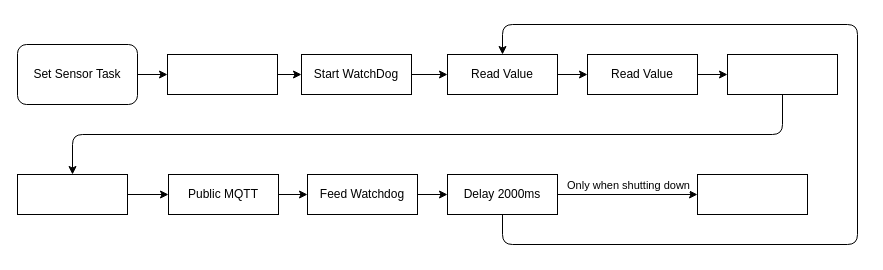
Image size: 883x270. Some labels were removed from this diagram. The shapes that lost their labels are listed below. From the top down, each one's centre as x and y in pixels, then its label:
At (222,74): "Set GPIO".
At (782,74): "Get Current Time".
At (72,194): "Generate MQTT Message".
At (752,194): "Delete Task".
